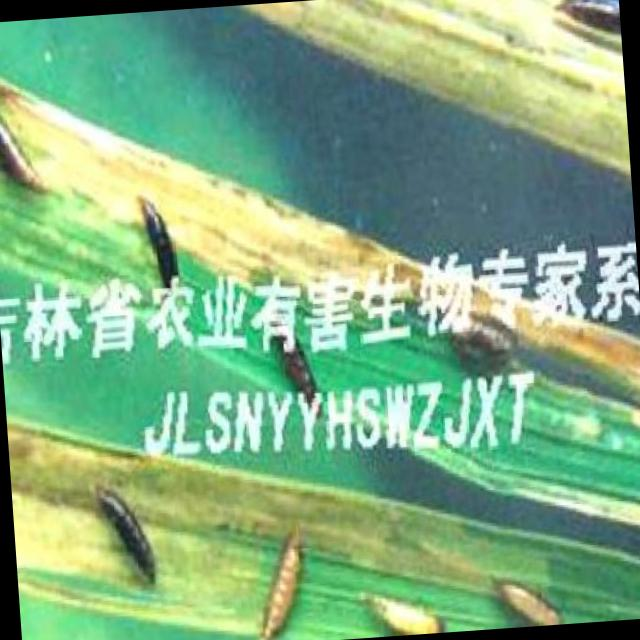whorl-maggot: (93, 476, 164, 597), (252, 519, 309, 640), (0, 93, 47, 209), (362, 576, 444, 638), (489, 560, 562, 628), (136, 193, 178, 275), (551, 0, 620, 31)
